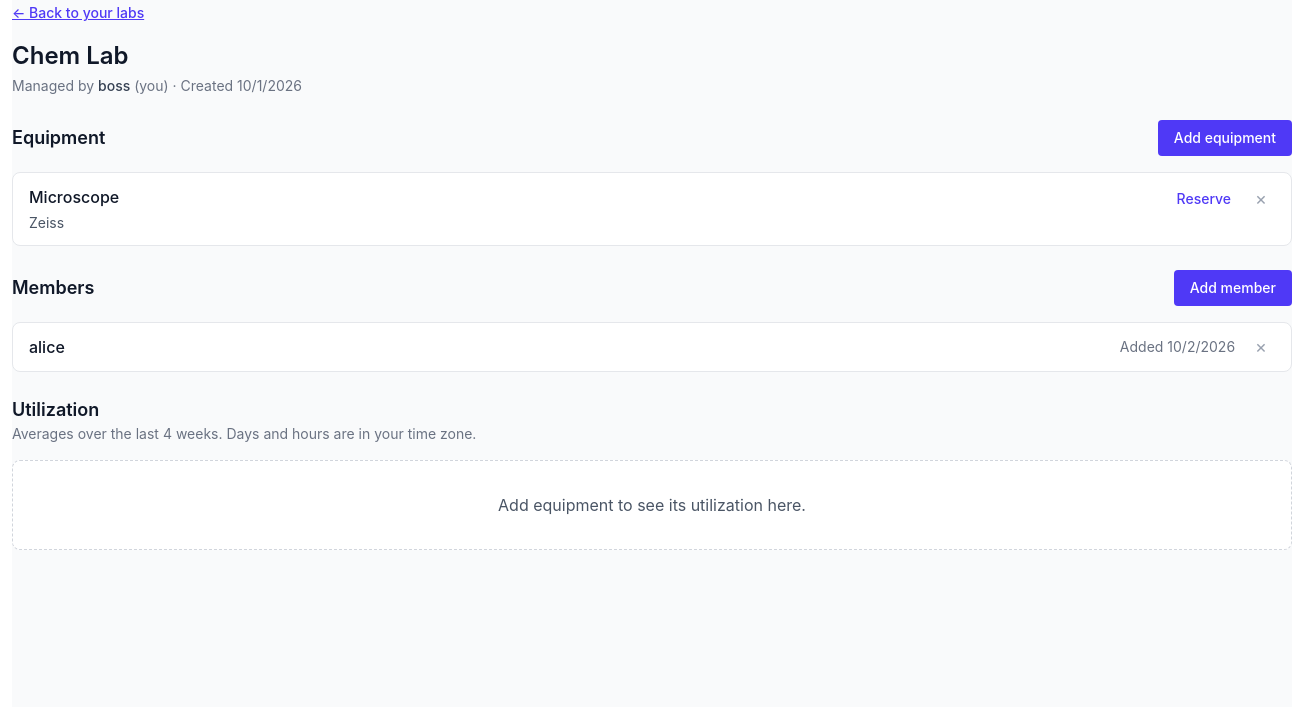
Test case: equipment › shows the server error when adding equipment fails
Expected: the text "Microscope" is shown, [29,185,119,209]
Click the button "Add equipment": (1225, 138) [1158,120,1292,156]
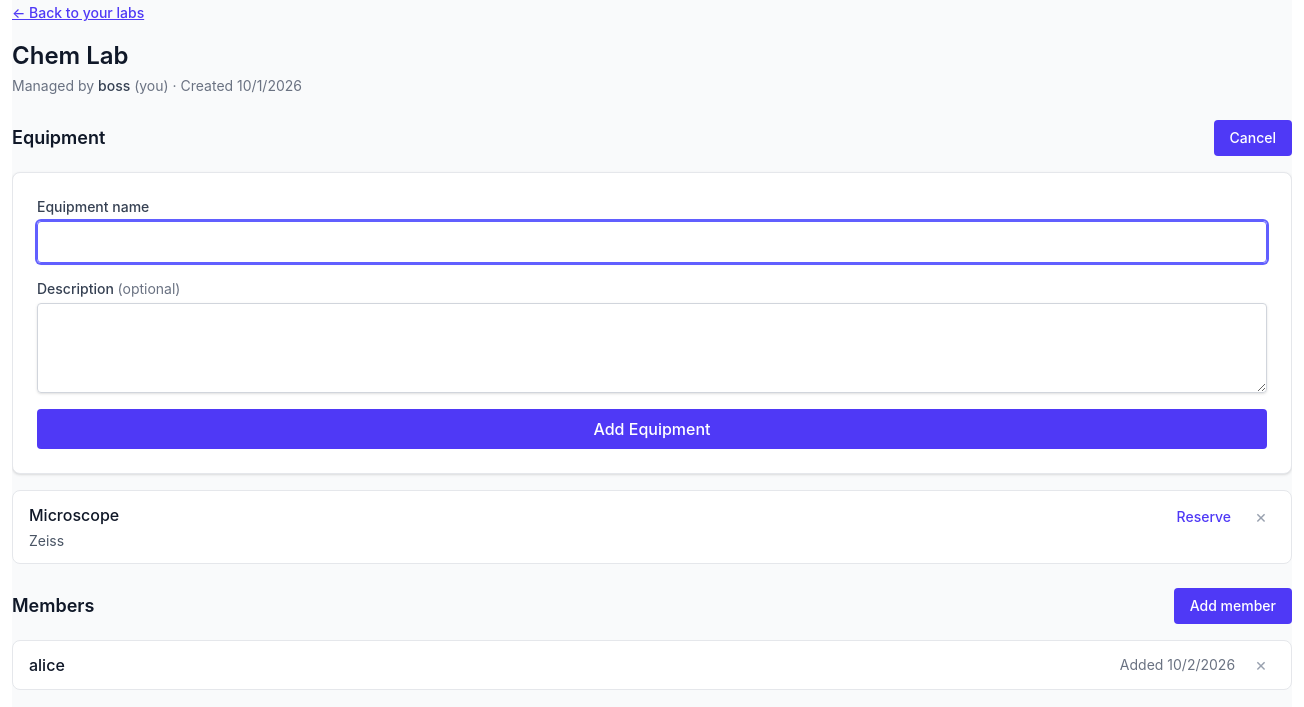
In the field labelled "Equipment name": (652, 242) [37,221,1267,263], type "Scope"
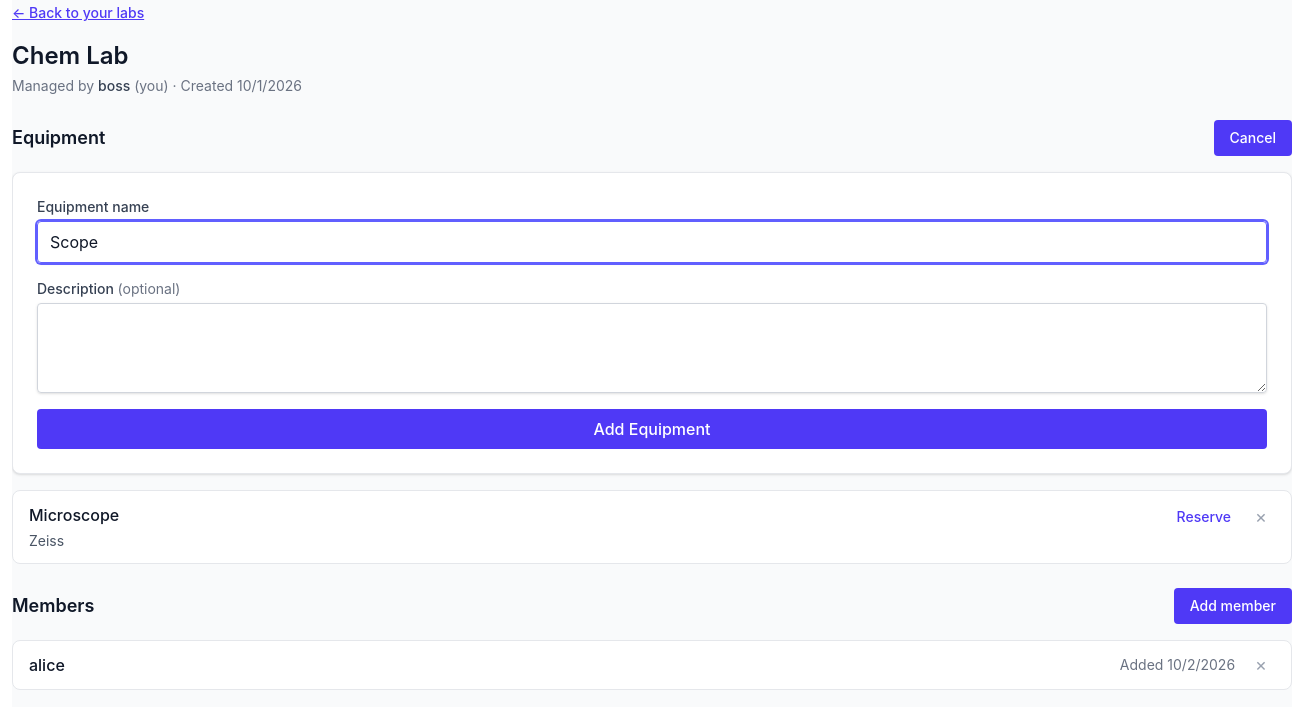
Click the button "Add Equipment": (652, 429) [37,409,1267,449]
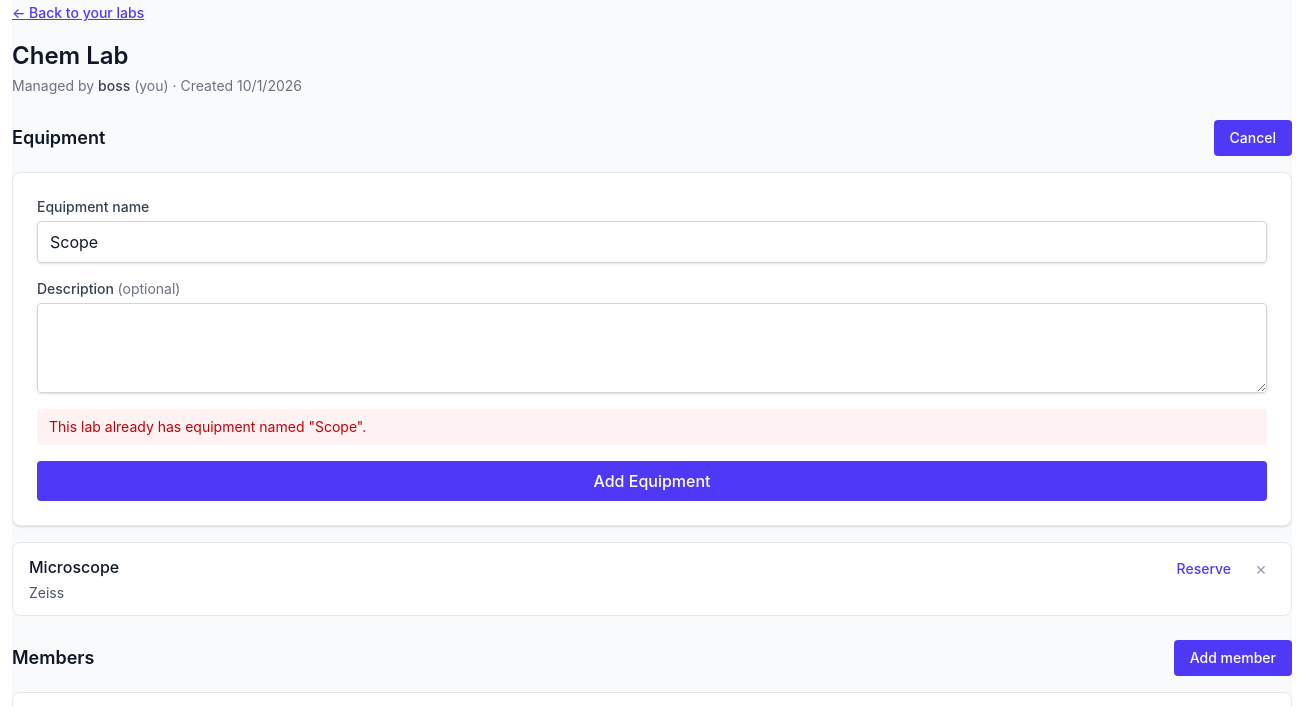
Now the message reads "This lab already has equipment named \"Scope\".", box [49,418,366,435]
